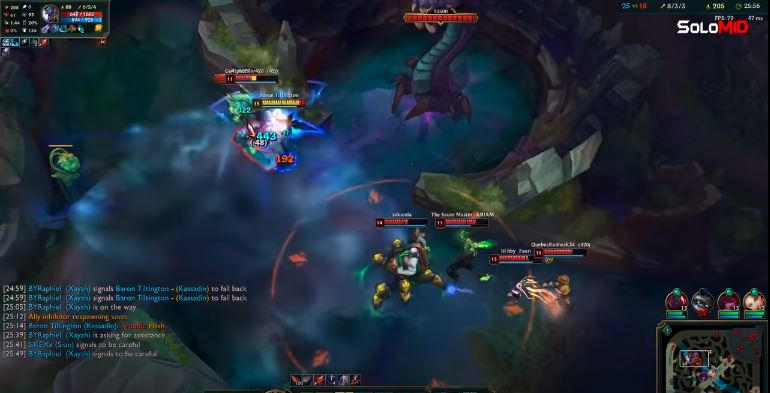bar: (529, 245, 589, 259), (251, 96, 309, 109), (434, 216, 491, 229), (226, 71, 280, 84), (487, 252, 541, 265), (372, 216, 430, 228)
